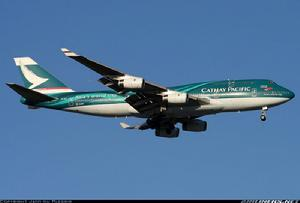airplane: (4, 42, 296, 138)
